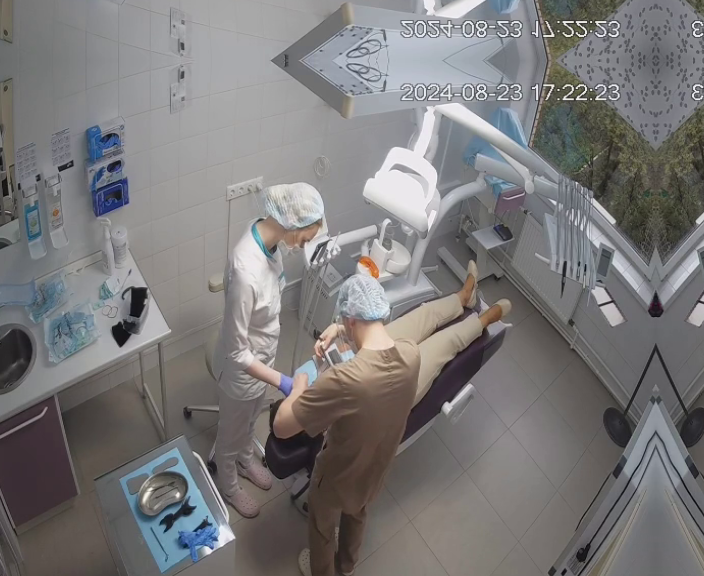Patient: (257, 256, 515, 479)
